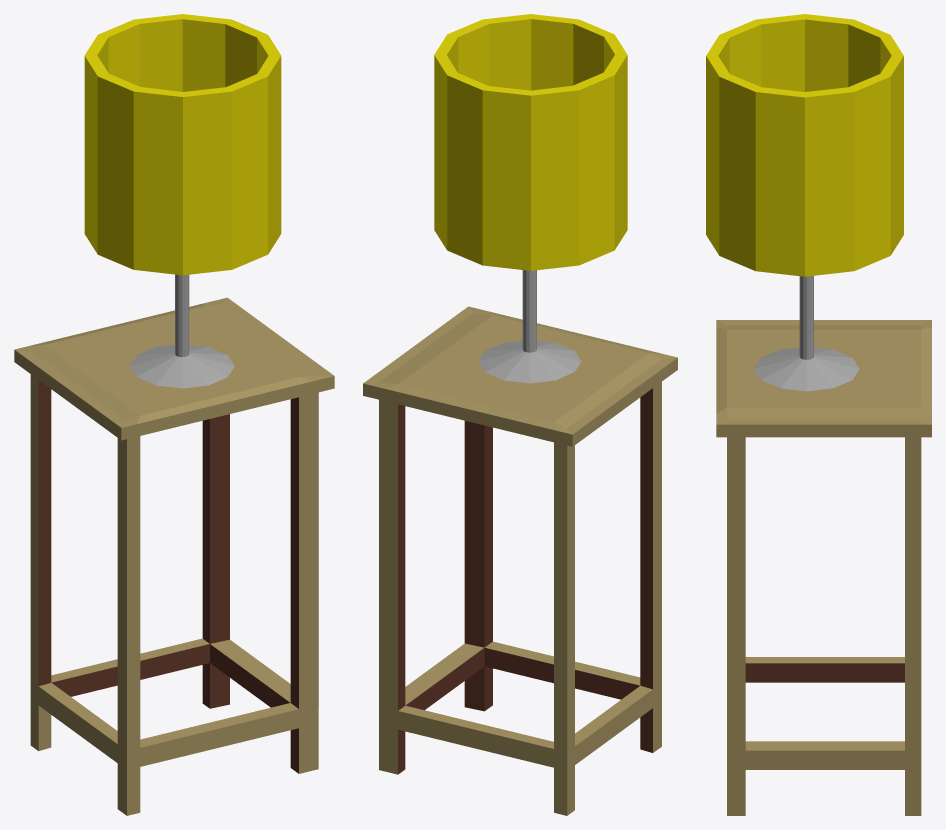
Rendered from Lamp.fbx.
The picture shows the model from 3 angles, left to right: view 1: azimuth 30°, elevation 25°; view 2: azimuth 150°, elevation 25°; view 3: azimuth 270°, elevation 25°; orthographic projection. The views are drawn at different scales.
Visible parts, largest first — view 1: Lamp; view 2: Lamp; view 3: Lamp.
Part boxes in pixels (left/top/right/bottom): Lamp: left=14, top=14, right=334, bottom=815; Lamp: left=363, top=14, right=677, bottom=815; Lamp: left=706, top=14, right=931, bottom=815.
Size of the model in its own units: 250 by 795 by 228.
